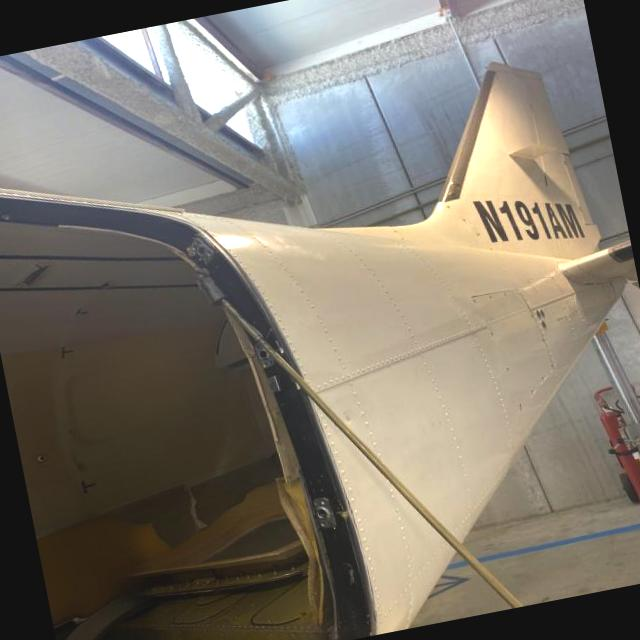dent: (338, 408, 360, 428)
